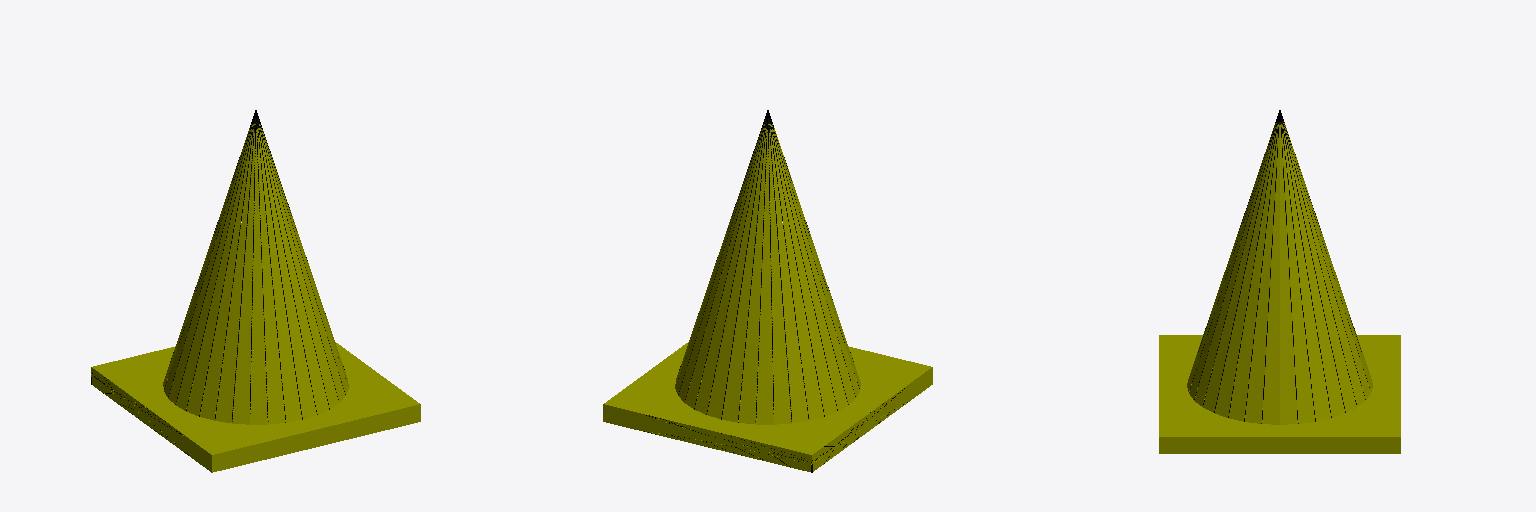
3 views of the same model, side by side, from view 1: azimuth 30°, elevation 25°; view 2: azimuth 150°, elevation 25°; view 3: azimuth 270°, elevation 25° (orthographic).
Parts seen in each view (by area): view 1: 円錐, 立方体; view 2: 円錐, 立方体; view 3: 円錐, 立方体.
Boxes of the visible parts, x1,y1,x2,y2 form: 円錐: [163, 110, 348, 424]; 立方体: [91, 342, 420, 472]; 円錐: [675, 110, 860, 424]; 立方体: [603, 342, 932, 472]; 円錐: [1187, 110, 1372, 424]; 立方体: [1159, 335, 1400, 453].
Bounding box in the file's own units: 2.54 × 3.42 × 2.54.
Materials: 1 (1 with a texture image).